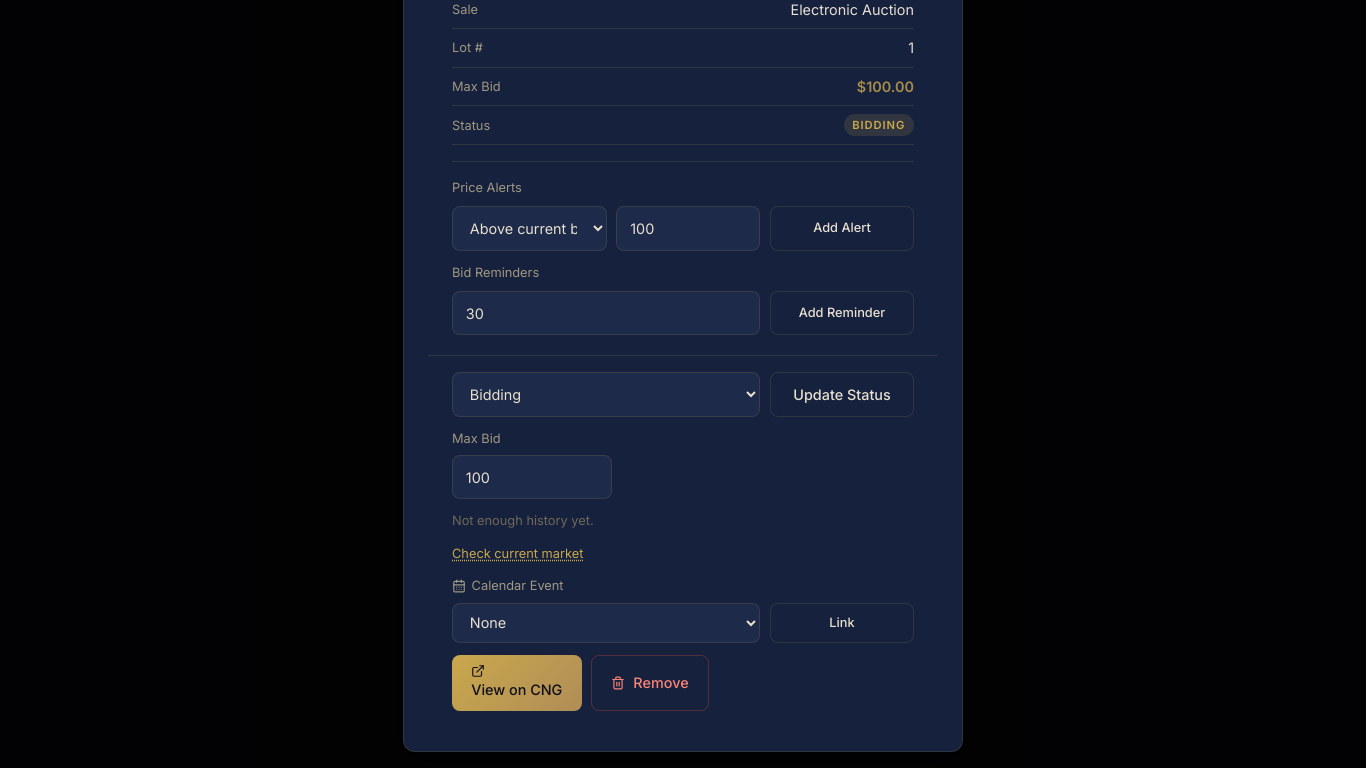
Test: AuctionLotDetailModal › shows the rationale without erroring when the market signal is unavailable
(page scrolled)
Click the button "Check current market".
click(518, 554)  # box [452,544,583,564]
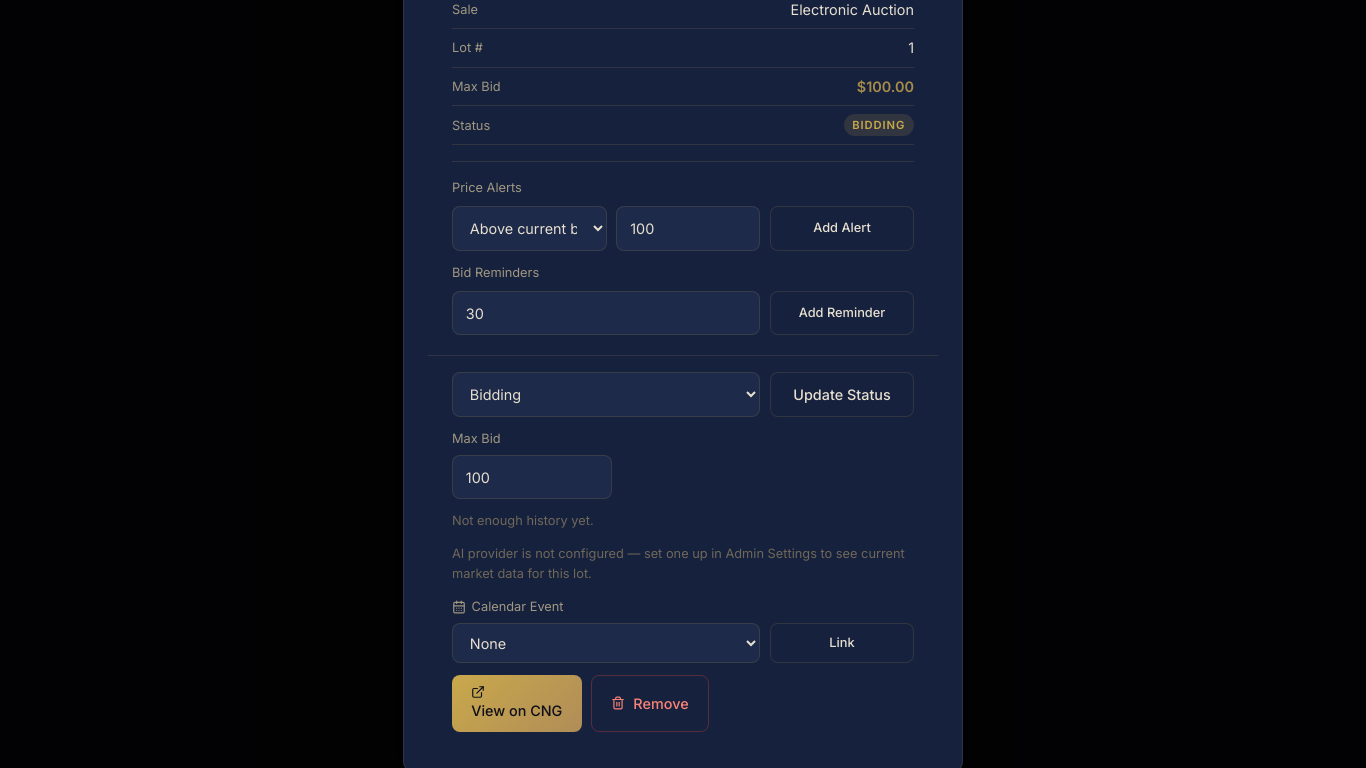
Now the text "AI provider is not configured" is shown, box [452,546,905,581]
